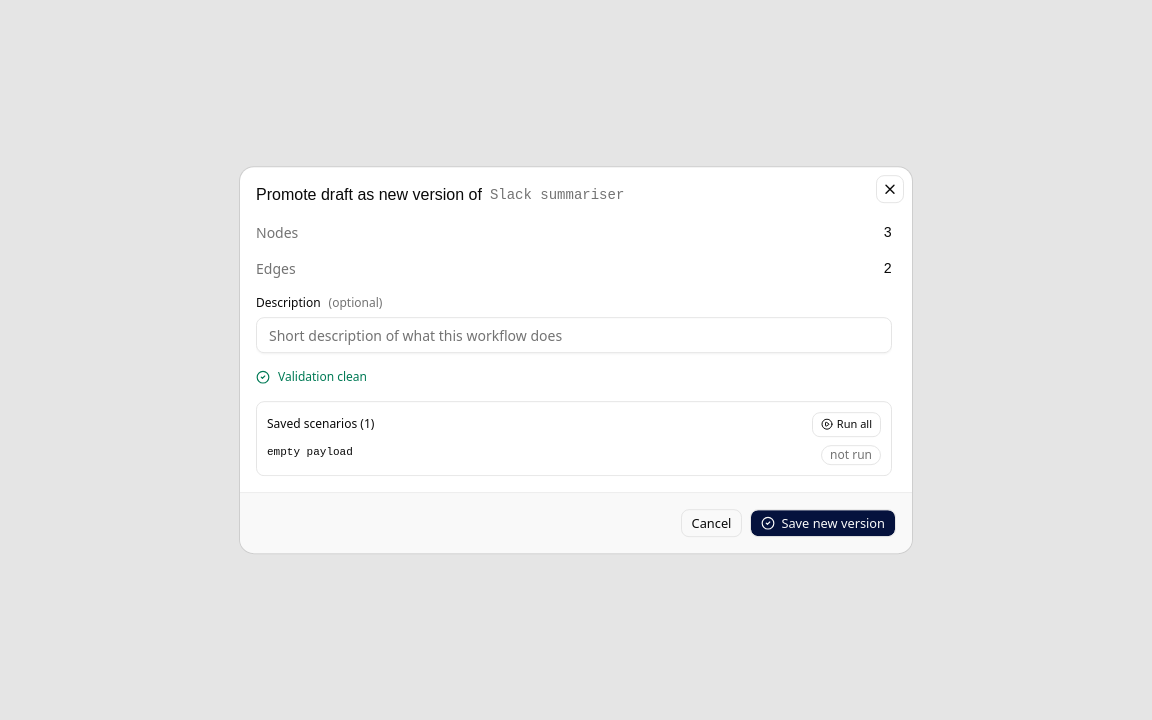
Test: PromoteDialog › blocks promote after failed scenarios until 'promote anyway' is checked
Expected: the text "empty payload" is shown, [267,445,353,460]
Step 1. Click the button with aria-label "run all scenarios" → (846,425), box [812,412,881,437]
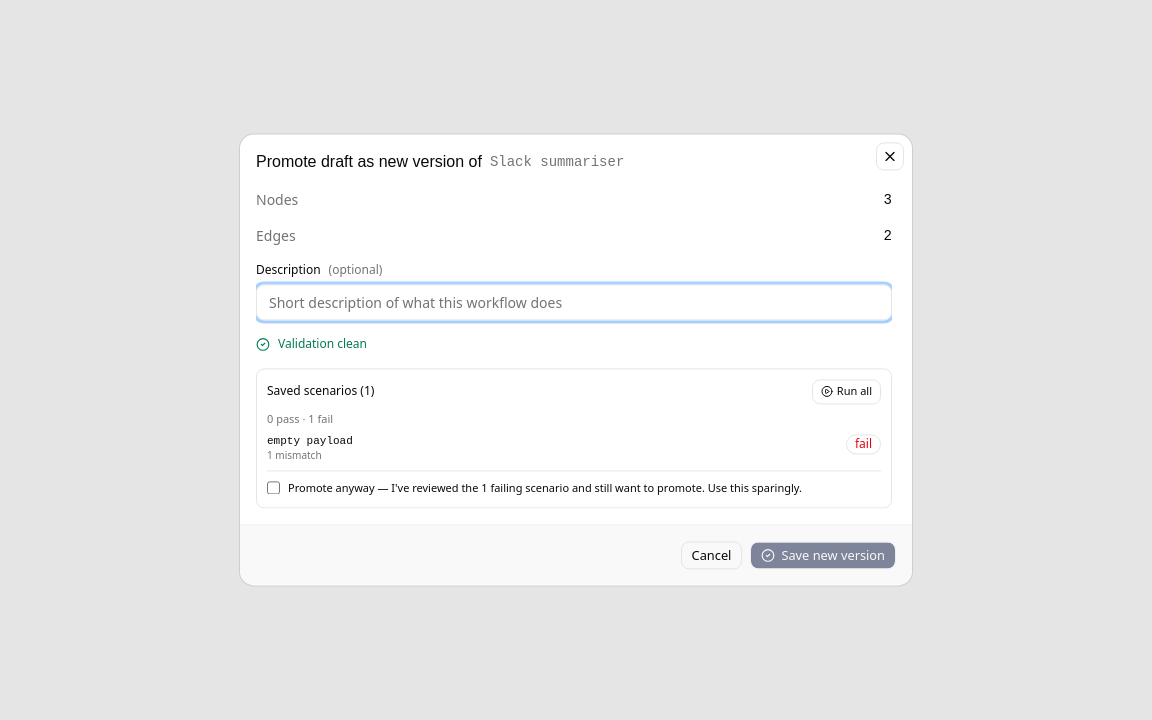
Expected: the icon "fail" is shown, [846,435,881,455]
Expected: the button "Save new version" is disabled, [750,542,896,570]
Checking the "promote anyway" box re-enables it.
Step 2. Click the checkbox → (274,488), box [267,482,280,495]
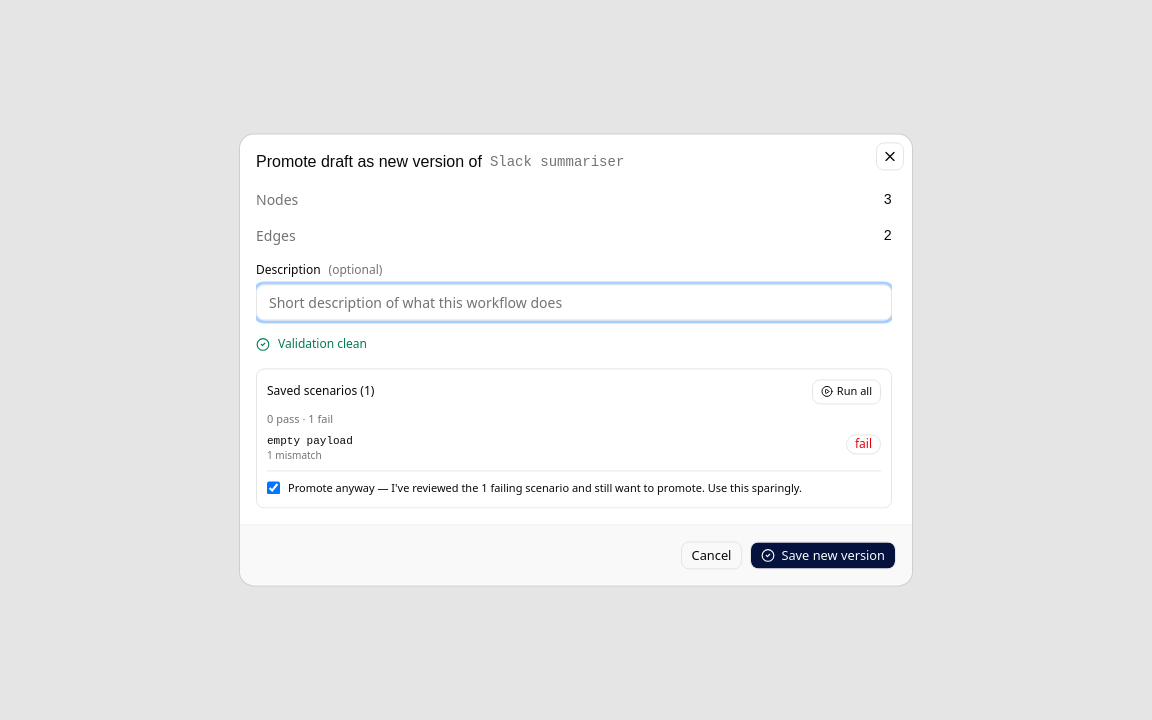
Expected: the button "Save new version" is enabled, [750,542,896,570]
